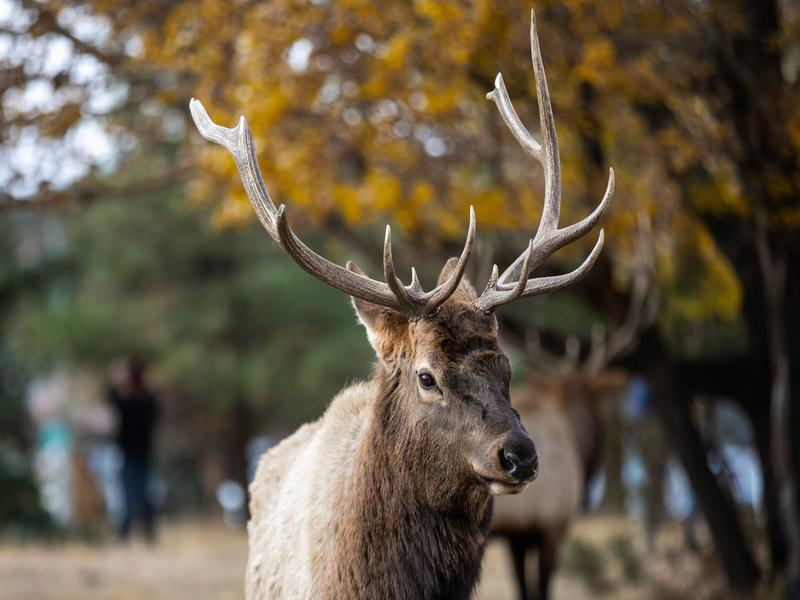elk: (227, 179, 605, 600)
